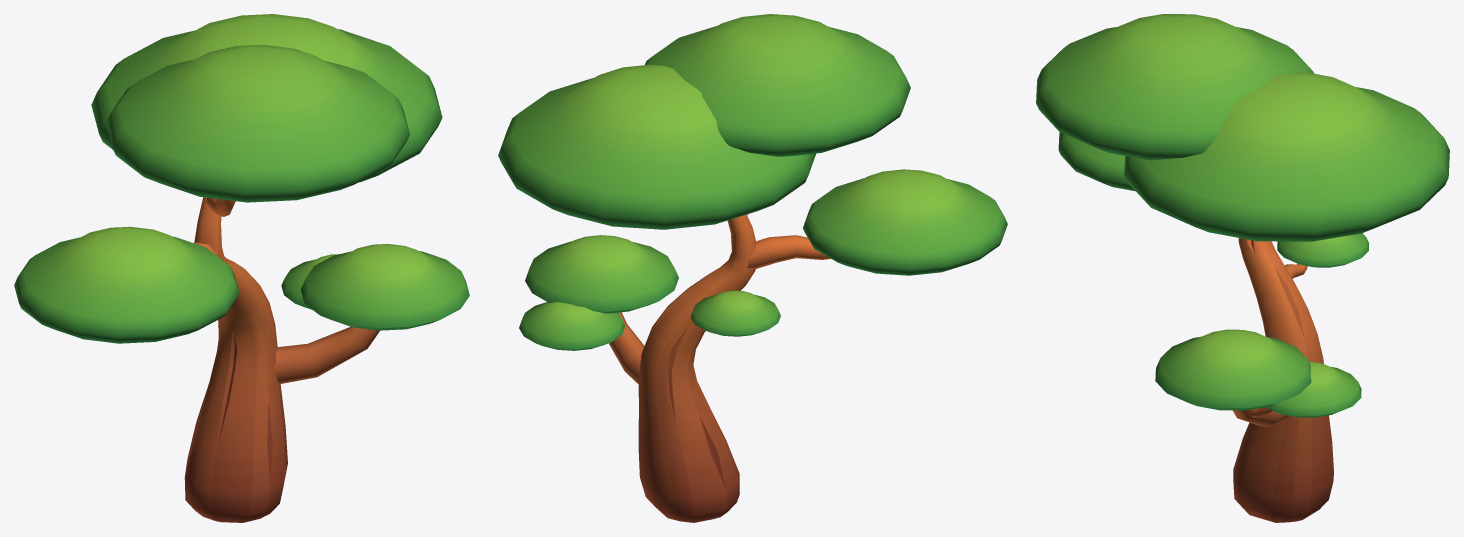
Rendered from tree_3_c_color1.glb.
The picture shows the model from 3 angles, left to right: view 1: azimuth 30°, elevation 25°; view 2: azimuth 150°, elevation 25°; view 3: azimuth 270°, elevation 25°; orthographic projection. The views are drawn at different scales.
Parts seen in each view (by area): view 1: Tree_3_C_Color1; view 2: Tree_3_C_Color1; view 3: Tree_3_C_Color1.
Part boxes in pixels (x1,y1,x2,y2): Tree_3_C_Color1: (14, 14, 469, 522); Tree_3_C_Color1: (498, 14, 1007, 522); Tree_3_C_Color1: (1036, 14, 1449, 522).
Bounding box in the file's own units: 5.63 × 5.79 × 4.62.
Materials: 1 (1 with a texture image).
